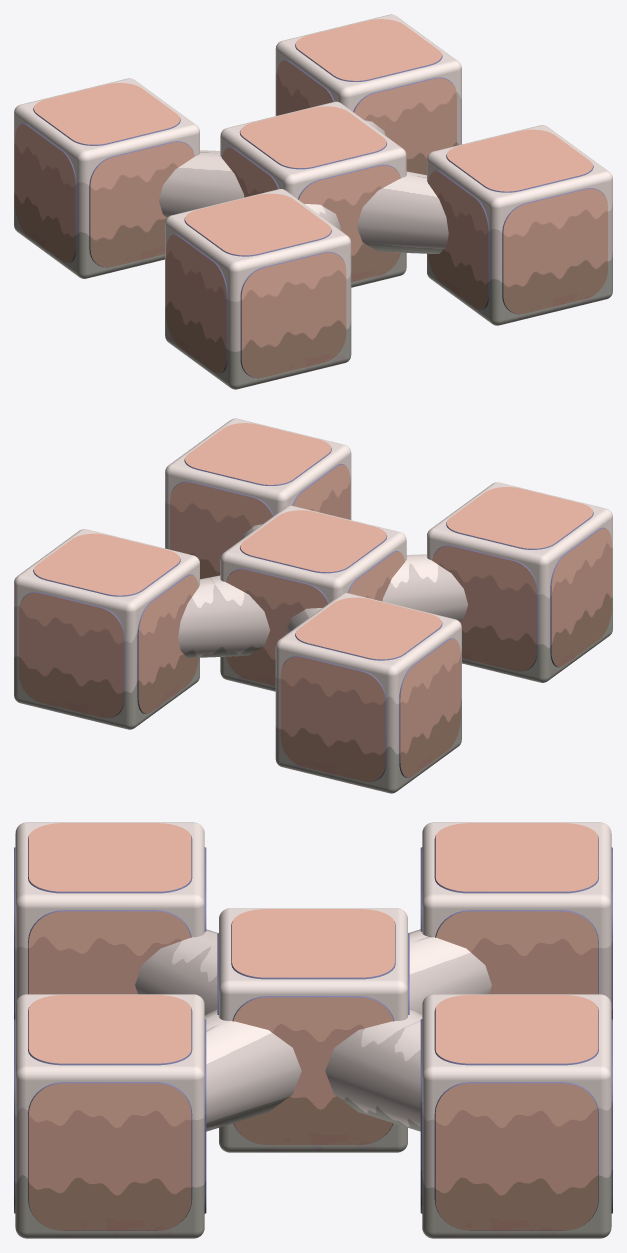
File: R4C_STRUT_CROSS.glb
3 renders of one model, top to bottom at view 1: azimuth 30°, elevation 25°; view 2: azimuth 150°, elevation 25°; view 3: azimuth 270°, elevation 25°, orthographic. The views are drawn at different scales.
Visible parts, largest first — view 1: R4C_STRUT_CROSS; view 2: R4C_STRUT_CROSS; view 3: R4C_STRUT_CROSS.
Part boxes in pixels (x1=…): R4C_STRUT_CROSS: x1=14, y1=14, x2=612, y2=389; R4C_STRUT_CROSS: x1=14, y1=418, x2=612, y2=793; R4C_STRUT_CROSS: x1=14, y1=822, x2=612, y2=1238.
Bounding box in the file's own units: 1.62 × 0.52 × 1.62.
3 materials, 3 textured.
